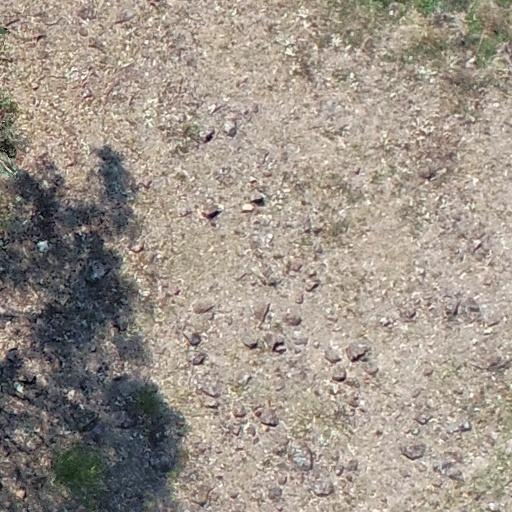stone: (286, 442, 314, 469), (188, 482, 214, 504), (434, 458, 461, 479), (105, 410, 133, 430), (345, 338, 368, 362), (458, 296, 482, 319), (85, 259, 108, 282), (400, 442, 427, 460), (255, 406, 279, 426), (186, 319, 210, 338), (323, 344, 345, 364), (444, 419, 469, 435), (246, 184, 266, 204), (192, 299, 216, 315), (312, 479, 334, 496), (253, 302, 270, 324), (266, 333, 286, 351), (199, 382, 221, 398), (197, 125, 215, 144), (332, 364, 348, 384), (240, 332, 260, 348), (182, 330, 202, 346), (200, 207, 222, 221), (361, 359, 379, 376), (398, 304, 417, 320), (283, 312, 303, 326), (17, 373, 37, 387), (418, 168, 438, 182), (231, 402, 248, 418), (112, 316, 128, 332), (5, 347, 19, 365), (223, 119, 237, 136), (202, 396, 220, 409), (304, 278, 320, 292), (267, 486, 283, 500), (413, 413, 431, 425), (342, 378, 360, 390), (346, 394, 361, 408), (451, 300, 462, 318), (192, 352, 206, 366), (344, 458, 358, 472), (226, 484, 240, 498), (288, 260, 304, 272), (302, 216, 312, 234), (293, 290, 305, 304), (244, 423, 256, 437), (128, 244, 145, 253), (276, 474, 288, 486), (178, 208, 192, 218), (233, 270, 247, 280), (240, 204, 256, 212), (238, 376, 252, 385), (253, 408, 265, 418), (422, 366, 434, 376), (473, 240, 483, 249)
